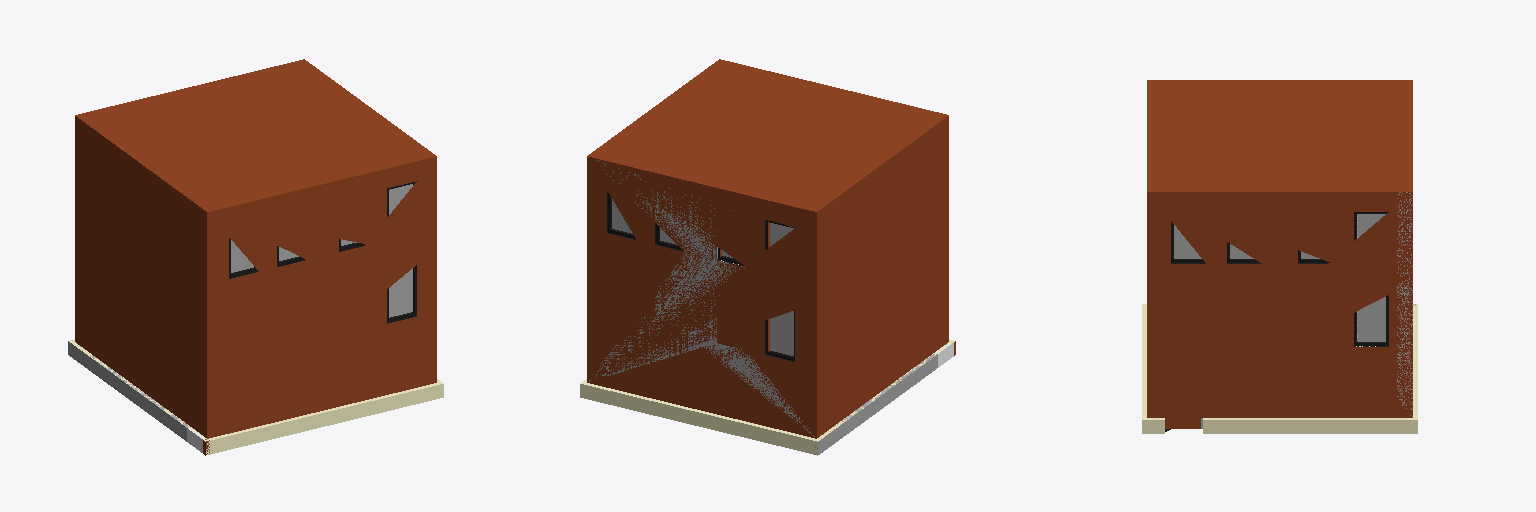
The picture shows the model from 3 angles: view 1: azimuth 30°, elevation 25°; view 2: azimuth 150°, elevation 25°; view 3: azimuth 270°, elevation 25°; orthographic projection.
Visible parts, largest first — view 1: Cylinder.001; view 2: Cylinder.001; view 3: Cylinder.001.
Boxes of the visible parts, <box> form: Cylinder.001: <box>68,59,443,455</box>; Cylinder.001: <box>580,59,955,455</box>; Cylinder.001: <box>1142,80,1417,433</box>.
Size of the model in its own units: 2.07 by 2 by 2.08.
1 materials, 1 textured.